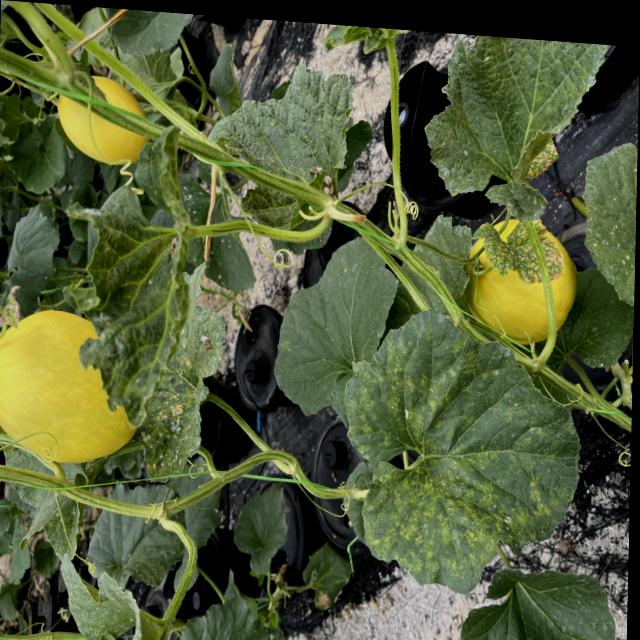CMV: (421, 31, 611, 225), (54, 556, 179, 640)
SLCV: (203, 51, 358, 198), (143, 259, 232, 484)
alternaria leaf blight: (481, 209, 563, 294)
bacterial wilt: (0, 284, 23, 329)
downy mildew: (340, 294, 585, 599)
healthy: (459, 559, 623, 640)
